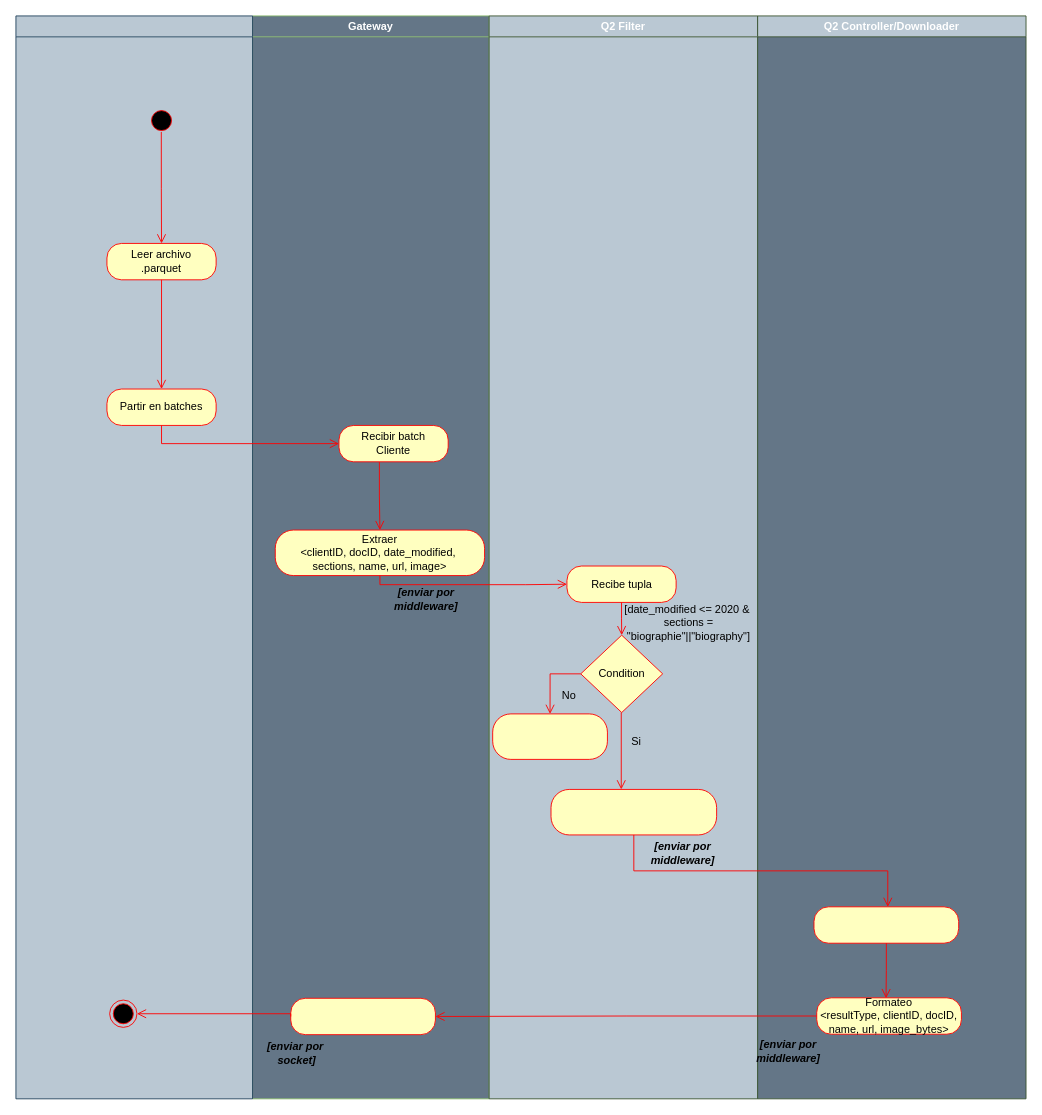
Some shapes in this 1042 by 1115 pixel diagram are drawn without their labels. Here are the shapes that lost their labels. From the top down, the box of each, then its label:
(15, 15, 253, 1099): Cliente
(492, 713, 607, 759): Descartar
(550, 789, 717, 835): Formatear clave <clientID, docID, name, url, image>
(813, 906, 959, 943): Fetch URL imagen
(290, 997, 435, 1035): Ruteo de resultados
